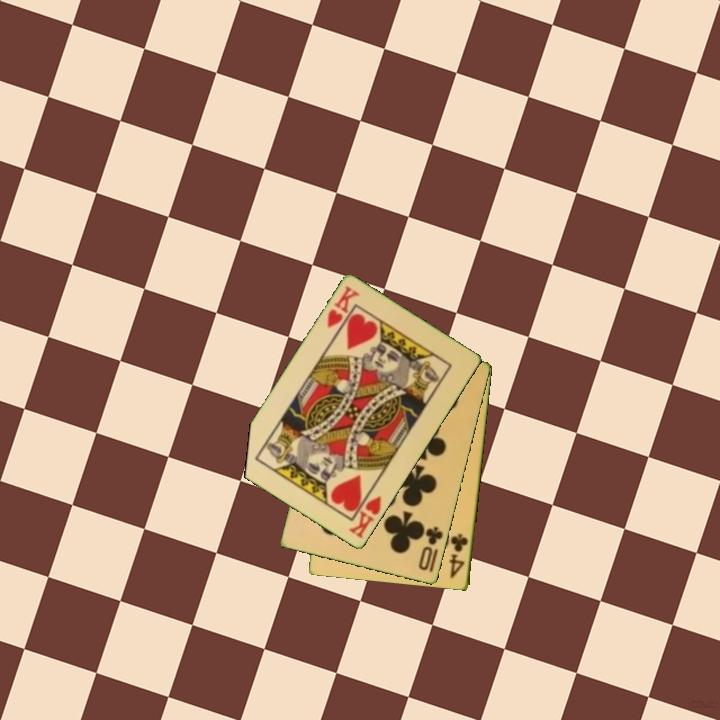10c: (415, 523, 446, 576)
4c: (446, 531, 471, 582)
Kh: (345, 485, 384, 542), (324, 283, 363, 331)
